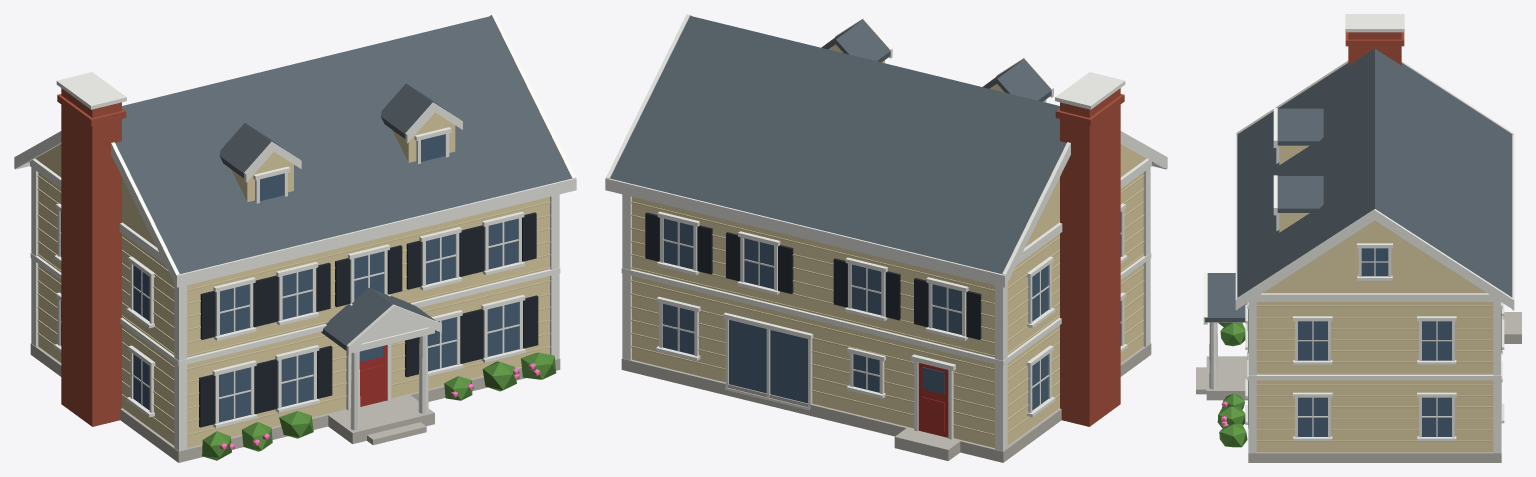
Rendered from colonial-house.glb.
3 views of the same model, side by side, from view 1: azimuth 30°, elevation 25°; view 2: azimuth 150°, elevation 25°; view 3: azimuth 270°, elevation 25° (orthographic). The views are drawn at different scales.
Visible parts, largest first — view 1: ColonialHouse_Roof, ColonialHouse_Frames, ColonialHouse_Walls, ColonialHouse_Brick, ColonialHouse_Glass, ColonialHouse_Shutters, ColonialHouse_Foundation, ColonialHouse_Trim, ColonialHouse_Leaves, ColonialHouse_Door; view 2: ColonialHouse_Roof, ColonialHouse_Walls, ColonialHouse_Frames, ColonialHouse_Brick, ColonialHouse_Glass, ColonialHouse_Trim, ColonialHouse_Foundation, ColonialHouse_Shutters, ColonialHouse_Door; view 3: ColonialHouse_Roof, ColonialHouse_Walls, ColonialHouse_Frames, ColonialHouse_Glass, ColonialHouse_Foundation, ColonialHouse_Trim, ColonialHouse_Leaves, ColonialHouse_Brick.
Part boxes in pixels (box(x1,y1,x2,y2)): ColonialHouse_Roof: box(28, 16, 571, 350); ColonialHouse_Frames: box(14, 14, 576, 451); ColonialHouse_Walls: box(35, 112, 549, 447); ColonialHouse_Brick: box(57, 88, 126, 426); ColonialHouse_Glass: box(60, 134, 519, 422); ColonialHouse_Shutters: box(199, 212, 538, 427); ColonialHouse_Foundation: box(30, 343, 560, 462); ColonialHouse_Trim: box(37, 175, 550, 435); ColonialHouse_Leaves: box(202, 352, 556, 460); ColonialHouse_Door: box(359, 345, 386, 406); ColonialHouse_Roof: box(610, 16, 1153, 273); ColonialHouse_Walls: box(632, 44, 1146, 447); ColonialHouse_Frames: box(605, 14, 1167, 451); ColonialHouse_Brick: box(1055, 88, 1124, 426); ColonialHouse_Glass: box(662, 212, 1121, 410); ColonialHouse_Trim: box(631, 175, 1144, 435); ColonialHouse_Foundation: box(621, 343, 1151, 462); ColonialHouse_Shutters: box(645, 212, 981, 339); ColonialHouse_Door: box(918, 363, 948, 437); ColonialHouse_Roof: box(1205, 48, 1512, 322); ColonialHouse_Walls: box(1256, 145, 1493, 452); ColonialHouse_Frames: box(1203, 14, 1514, 453); ColonialHouse_Glass: box(1298, 248, 1451, 436); ColonialHouse_Foundation: box(1196, 312, 1521, 462); ColonialHouse_Trim: box(1256, 305, 1493, 441); ColonialHouse_Leaves: box(1217, 322, 1247, 447); ColonialHouse_Brick: box(1345, 32, 1404, 65).
Bounding box in the file's own units: 47.07 × 34.46 × 36.8.
